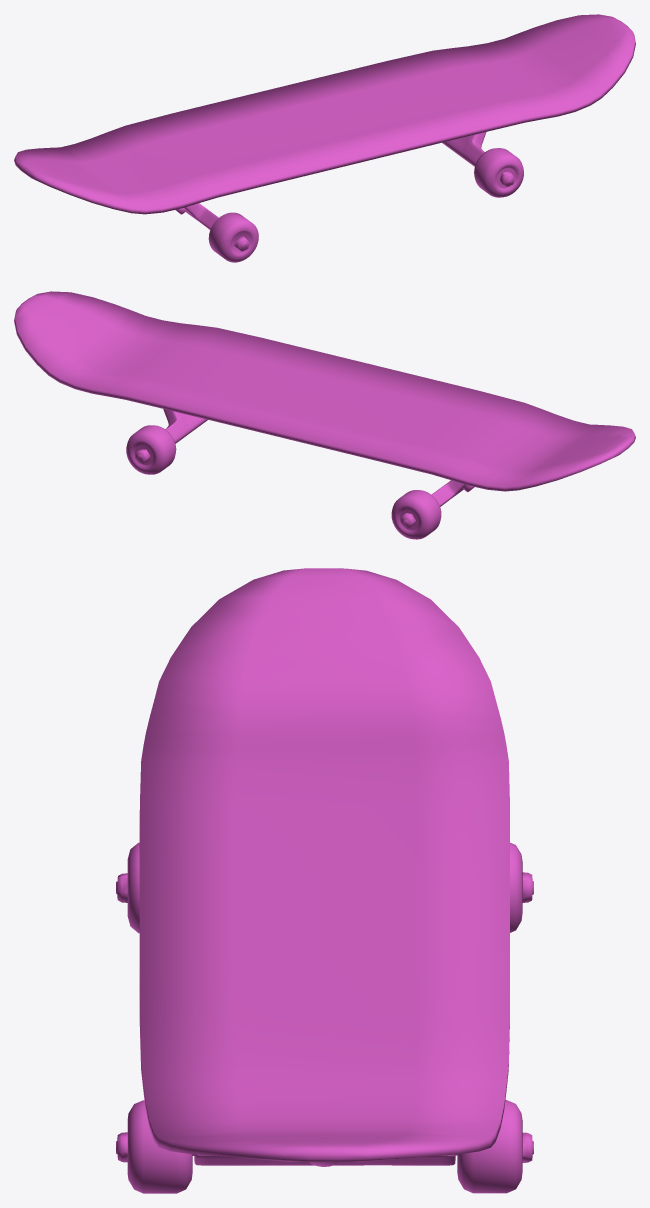
The model's file is Skate.FBX.
The picture shows the model from 3 angles, top to bottom: view 1: azimuth 30°, elevation 25°; view 2: azimuth 150°, elevation 25°; view 3: azimuth 270°, elevation 25°; orthographic projection. The views are drawn at different scales.
Visible parts, largest first — view 1: skateboard; view 2: skateboard; view 3: skateboard.
Part boxes in pixels (<box>): skateboard: <box>14,14,635,262</box>; skateboard: <box>14,291,635,539</box>; skateboard: <box>116,568,533,1193</box>.
Bounding box in the file's own units: 5.88 × 0.9435 × 1.77.
